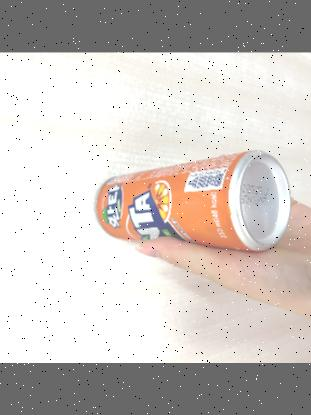Can: (93, 145, 293, 254)
